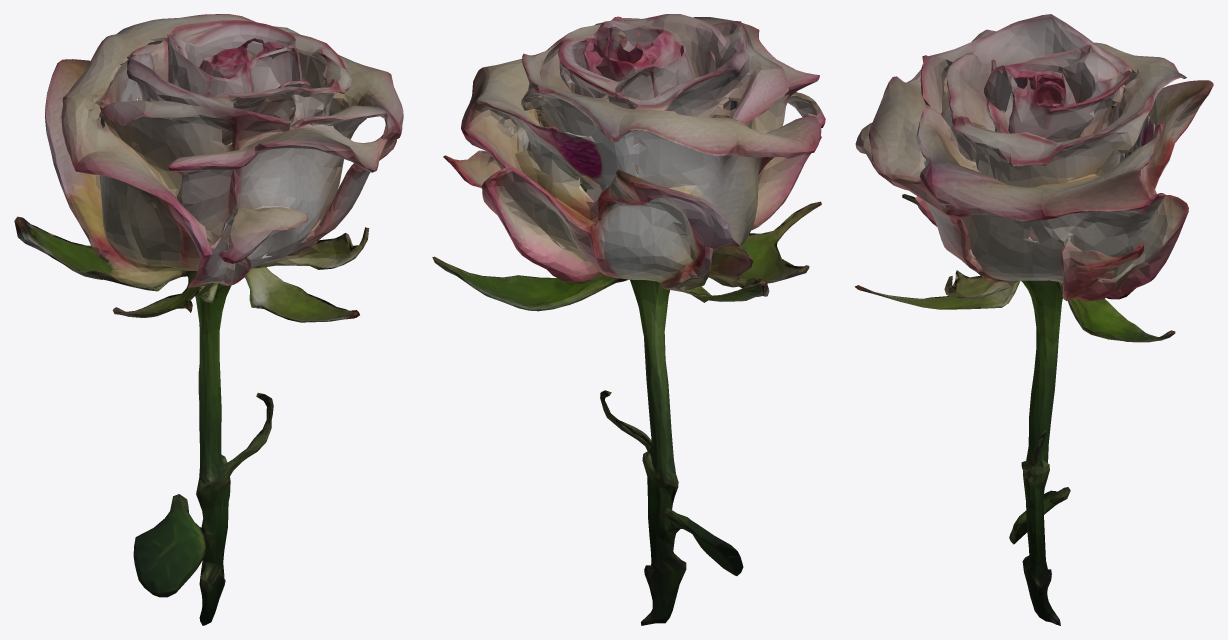
The picture shows the model from 3 angles, left to right: view 1: azimuth 30°, elevation 25°; view 2: azimuth 150°, elevation 25°; view 3: azimuth 270°, elevation 25°; orthographic projection.
Visible parts, largest first — view 1: world; view 2: world; view 3: world.
Boxes of the visible parts, x1,y1,x2,y2 form: world: (14,14,403,625); world: (432,14,825,625); world: (854,14,1213,625).
Size of the model in its own units: 0.5664 by 0.9422 by 0.5361.
Materials: 1 (1 with a texture image).
